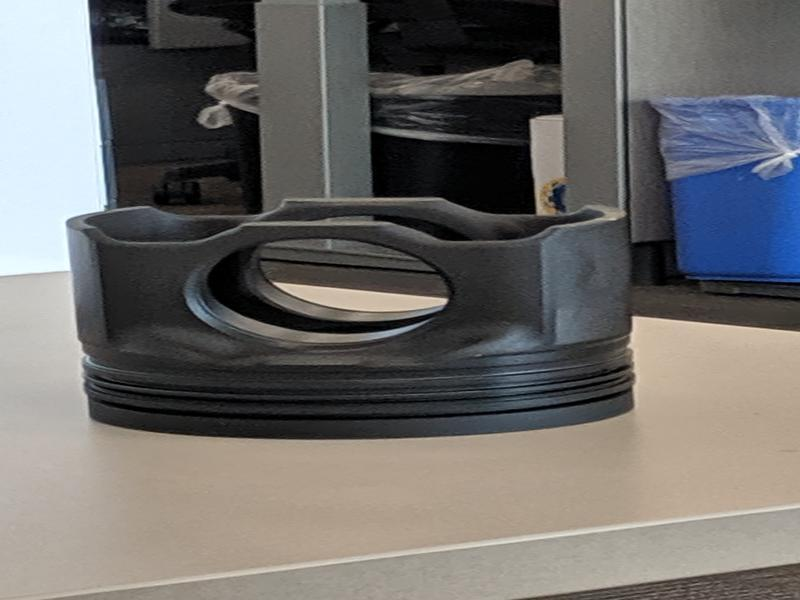piston: (64, 192, 645, 444)
